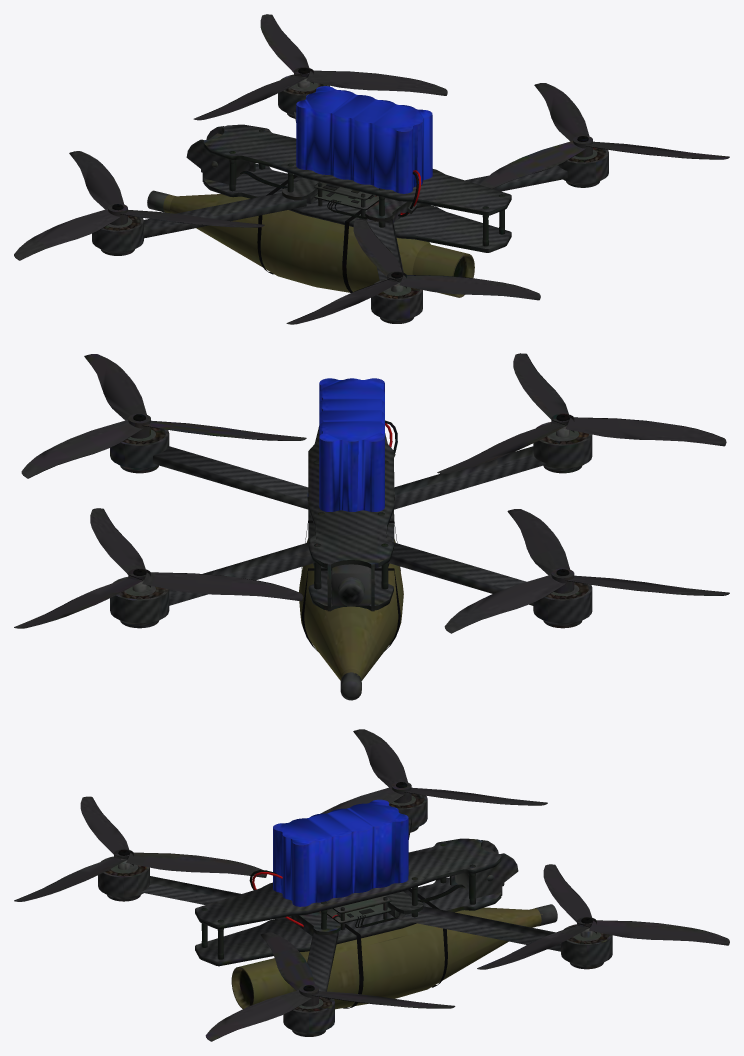
File: item.drone.kamikaze_heavy.glb
3 renders of one model, top to bottom at view 1: azimuth 30°, elevation 25°; view 2: azimuth 150°, elevation 25°; view 3: azimuth 270°, elevation 25°, orthographic. The views are drawn at different scales.
Parts seen in each view (by area): view 1: kamikaze_heavy; view 2: kamikaze_heavy; view 3: kamikaze_heavy.
Boxes of the visible parts, x1=… form: kamikaze_heavy: x1=14, y1=14, x2=729, y2=324; kamikaze_heavy: x1=14, y1=353, x2=729, y2=700; kamikaze_heavy: x1=14, y1=729, x2=729, y2=1041.
Size of the model in its own units: 1.06 by 0.2929 by 1.03.
Materials: 1 (1 with a texture image).
